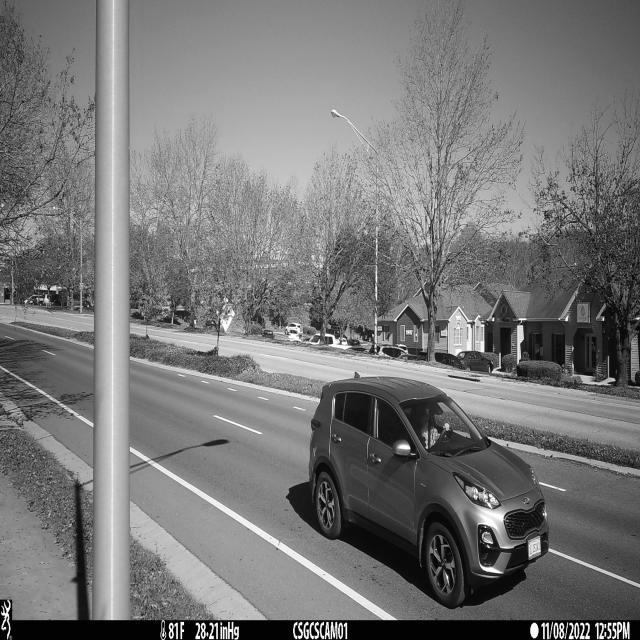SUV: (309, 372, 549, 609)
